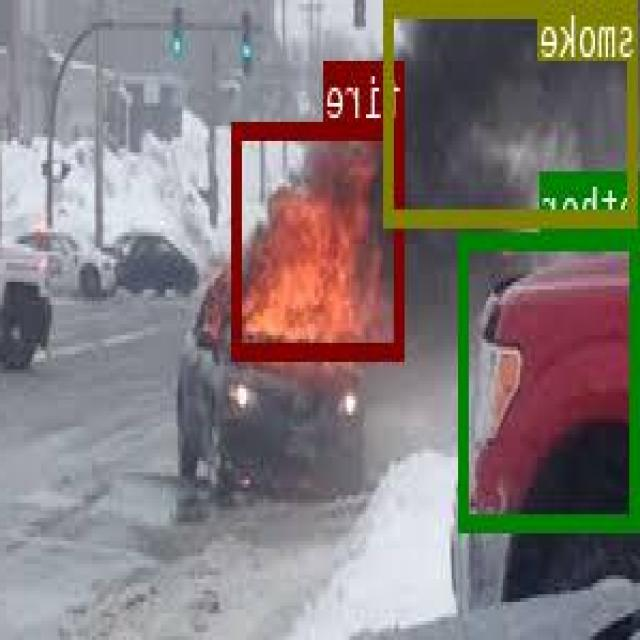fire: (234, 122, 405, 354)
other: (460, 230, 640, 528)
smoke: (387, 0, 640, 225)
